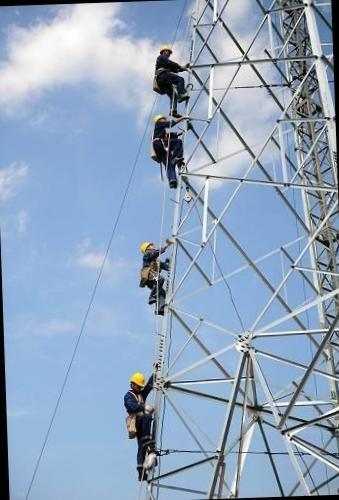helmet: (127, 370, 145, 389), (140, 240, 158, 254), (158, 42, 172, 55), (153, 113, 167, 126)
